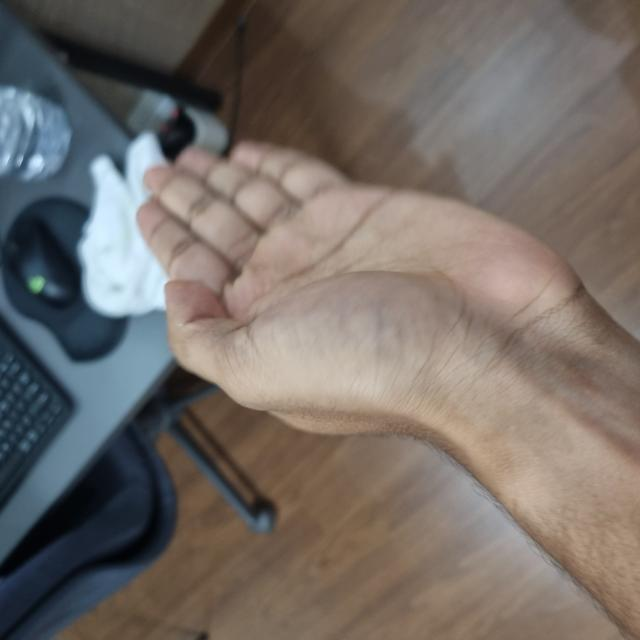Paper: (198, 138, 494, 569)
